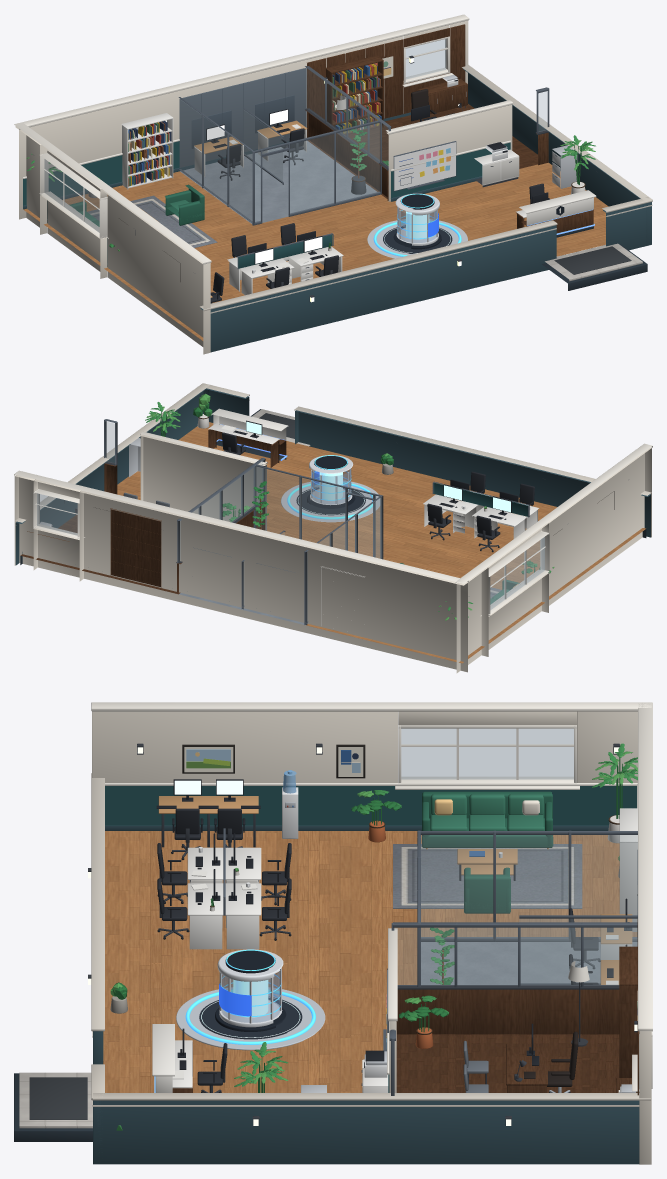
Rendered from office-small.glb.
The picture shows the model from 3 angles, top to bottom: view 1: azimuth 30°, elevation 25°; view 2: azimuth 150°, elevation 25°; view 3: azimuth 270°, elevation 25°; orthographic projection. The views are drawn at different scales.
Parts seen in each view (by area): view 1: office_static, office_glass, office_emissive, inst:plant_tall_palm:1, inst:plant_tall_fiddle:0; view 2: office_static, office_glass, office_emissive, inst:plant_tall_palm:1, inst:chair_office:3, inst:chair_office:2, inst:plant_medium_bush:0; view 3: office_static, office_glass, office_emissive, inst:plant_tall_palm:0, inst:plant_tall_palm:1, inst:plant_medium_monstera:1, inst:chair_office:8, inst:plant_medium_monstera:0, inst:chair_office:7, inst:chair_exec:0, inst:chair_office:3, inst:chair_office:5 (+5 smaller).
Boxes of the visible parts, left/top/right/bottom form: office_static: left=14, top=14, right=652, bottom=354; office_glass: left=44, top=39, right=546, bottom=242; office_emissive: left=165, top=57, right=594, bottom=302; inst:plant_tall_palm:1: left=560, top=135, right=595, bottom=194; inst:plant_tall_fiddle:0: left=350, top=129, right=367, bottom=194; office_static: left=14, top=383, right=652, bottom=673; office_glass: left=37, top=421, right=544, bottom=620; office_emissive: left=216, top=424, right=372, bottom=519; inst:plant_tall_palm:1: left=145, top=402, right=180, bottom=436; inst:chair_office:3: left=427, top=503, right=451, bottom=540; inst:chair_office:2: left=476, top=515, right=500, bottom=552; inst:plant_medium_bush:0: left=193, top=393, right=212, bottom=428; office_static: left=14, top=702, right=652, bottom=1164; office_glass: left=221, top=728, right=637, bottom=1022; office_emissive: left=88, top=747, right=637, bottom=1125; inst:plant_tall_palm:0: left=592, top=743, right=637, bottom=843; inst:plant_tall_palm:1: left=234, top=1042, right=288, bottom=1092; inst:plant_medium_monstera:1: left=399, top=995, right=448, bottom=1048; inst:chair_office:8: left=171, top=808, right=203, bottom=859; inst:plant_medium_monstera:0: left=351, top=790, right=401, bottom=842; inst:chair_office:7: left=214, top=808, right=245, bottom=847; inst:chair_exec:0: left=547, top=1031, right=578, bottom=1092; inst:chair_office:3: left=259, top=878, right=291, bottom=940; inst:chair_office:5: left=157, top=878, right=189, bottom=939.
Size of the model in its own units: 14.74 by 2.87 by 12.14.
Materials: 76 (6 with a texture image).
